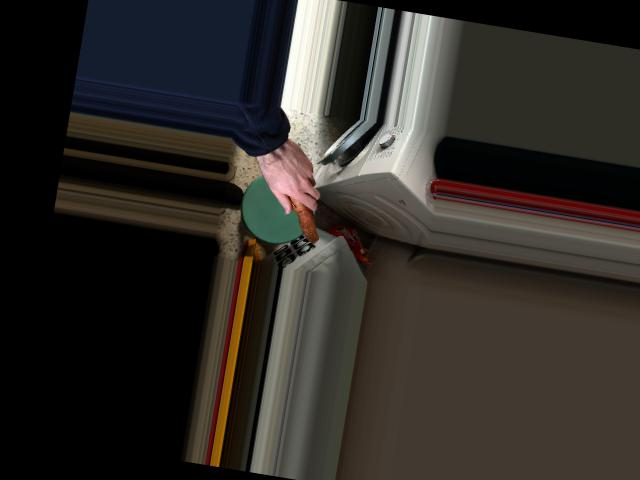sweet_potato: (264, 160, 330, 241)
